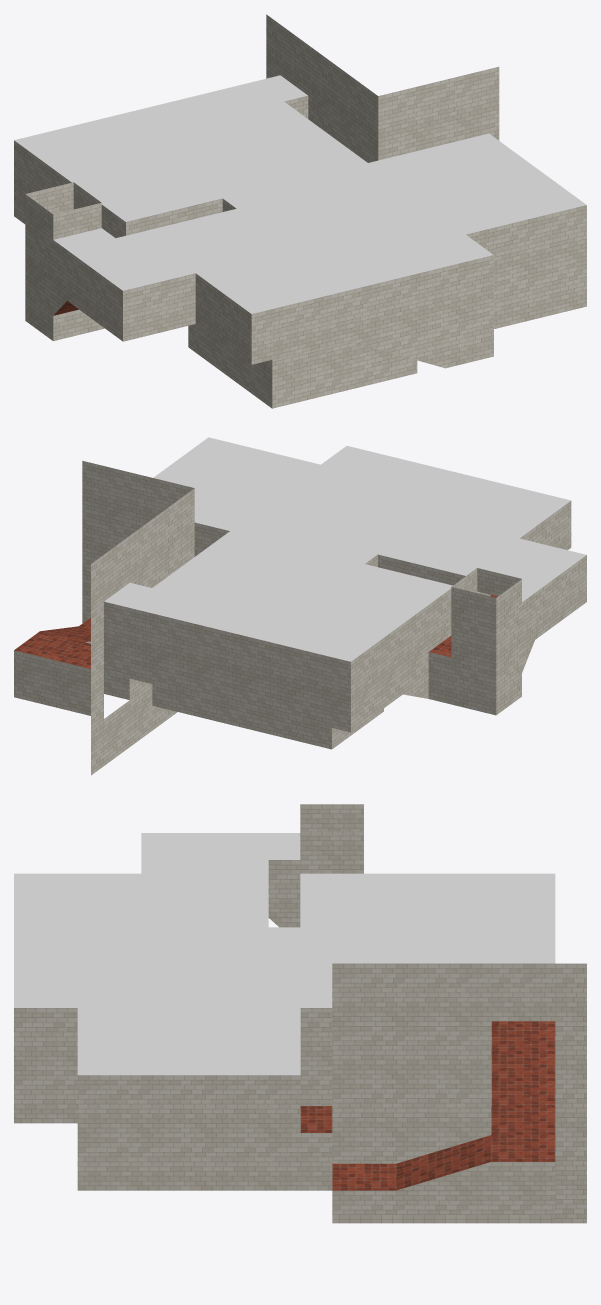
File: demo2.obj
3 renders of one model, top to bottom at view 1: azimuth 30°, elevation 25°; view 2: azimuth 150°, elevation 25°; view 3: azimuth 270°, elevation 25°, orthographic. The views are drawn at different scales.
Visible parts, largest first — view 1: Plane; view 2: Plane; view 3: Plane.
Part boxes in pixels (box(x1,y1,x2,y2)): Plane: box(14, 14, 586, 408); Plane: box(14, 437, 586, 775); Plane: box(14, 804, 586, 1223).
Bounding box in the file's own units: 19 × 9 × 18.
Materials: 3 (3 with a texture image).
